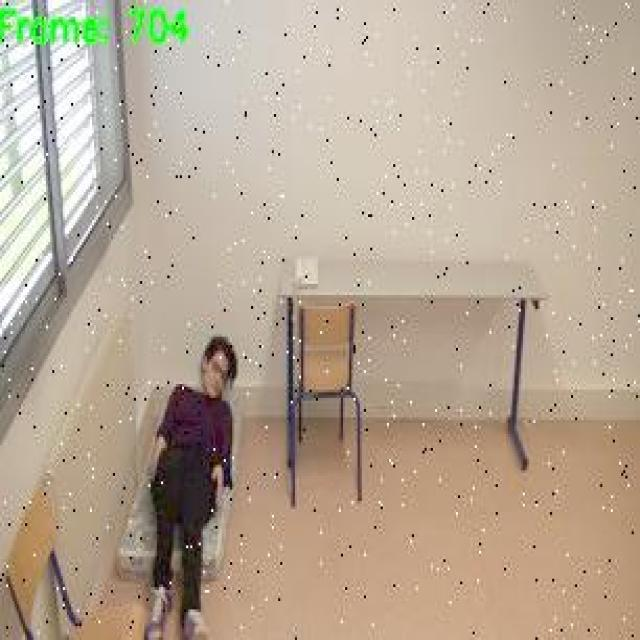fall: (140, 328, 244, 638)
